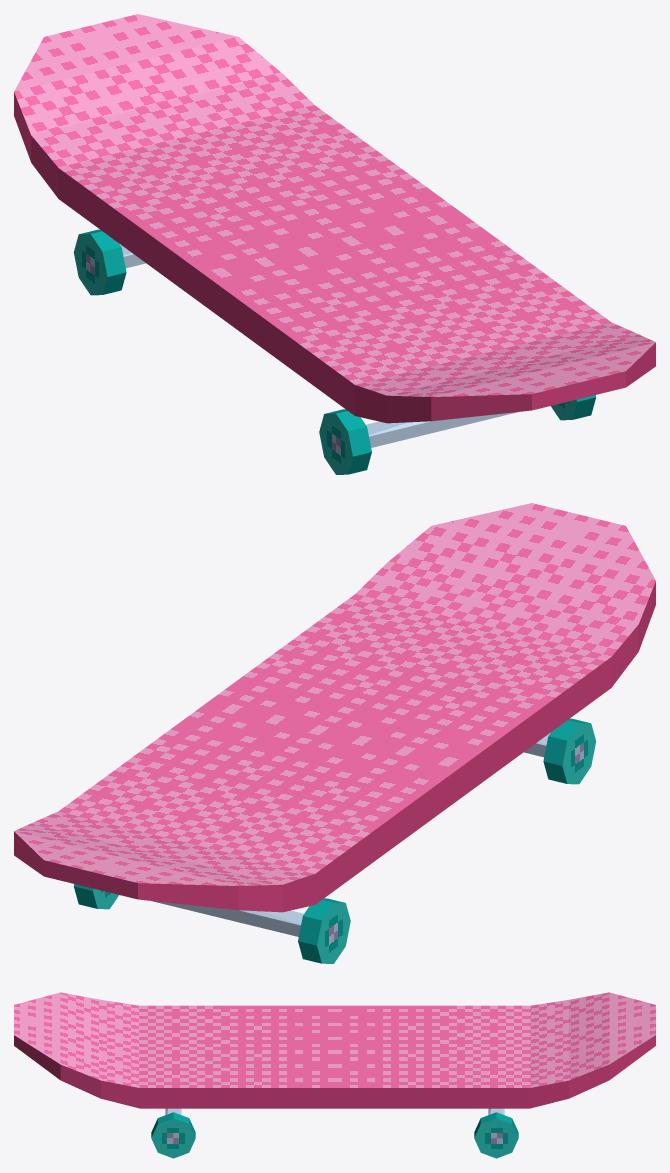
The model's file is skate_mcfly.glb.
3 renders of one model, top to bottom at view 1: azimuth 30°, elevation 25°; view 2: azimuth 150°, elevation 25°; view 3: azimuth 270°, elevation 25°, orthographic. The views are drawn at different scales.
Visible parts, largest first — view 1: Board, Wheels, Rims; view 2: Board, Wheels, Rims; view 3: Board, Wheels.
Boxes of the visible parts, x1=… form: Board: x1=14, y1=14, x2=655, y2=423; Wheels: x1=73, y1=229, x2=596, y2=474; Rims: x1=120, y1=245, x2=517, y2=447; Board: x1=14, y1=503, x2=655, y2=912; Wheels: x1=73, y1=718, x2=596, y2=963; Rims: x1=152, y1=734, x2=549, y2=936; Board: x1=14, y1=992, x2=655, y2=1108; Wheels: x1=151, y1=1112, x2=518, y2=1158.
Size of the model in its own units: 1 by 0.5638 by 3.29.
Materials: 1 (1 with a texture image).
